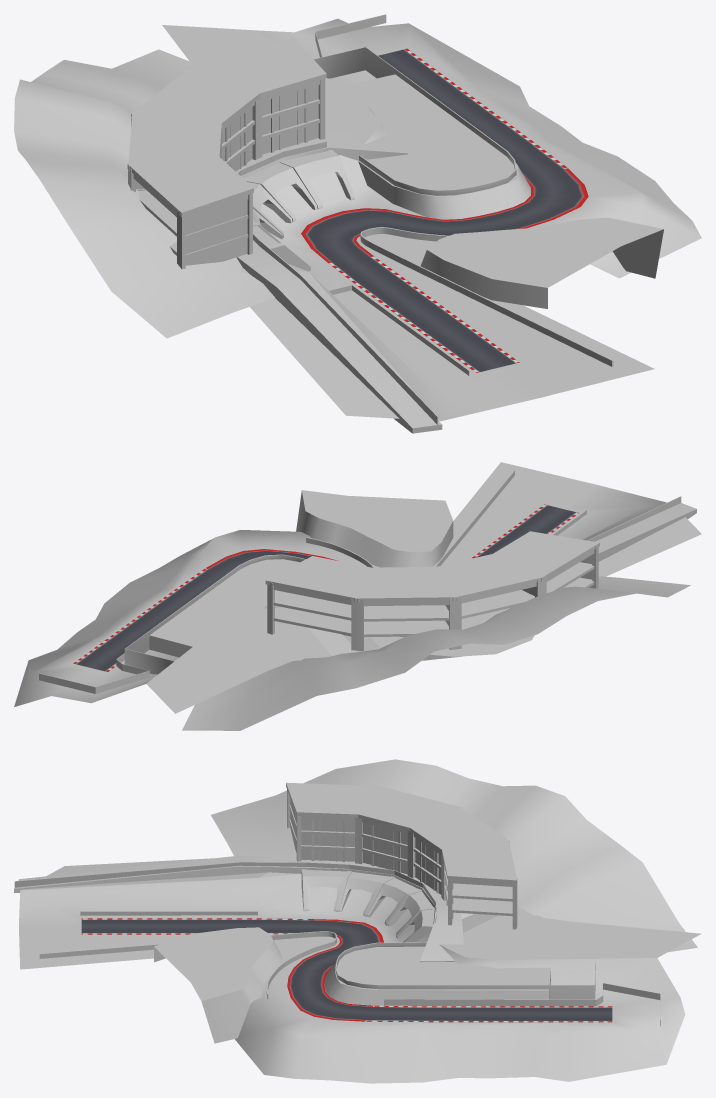
Rendered from Tutorial.fbx.
The picture shows the model from 3 angles, top to bottom: view 1: azimuth 30°, elevation 25°; view 2: azimuth 150°, elevation 25°; view 3: azimuth 270°, elevation 25°; orthographic projection. The views are drawn at different scales.
Parts seen in each view (by area): view 1: polySurface2, polySurface59, polySurface68, polySurface1, polySurface3, polySurface5, polySurface61, polySurface55, polySurface35, polySurface4, polySurface62, polySurface60 (+1 smaller); view 2: polySurface2, polySurface68, polySurface59, polySurface5, polySurface1, polySurface3, polySurface61, polySurface35, polySurface63, polySurface4, polySurface62; view 3: polySurface2, polySurface59, polySurface68, polySurface1, polySurface3, polySurface5, polySurface61, polySurface55, polySurface62, polySurface35, polySurface63, polySurface4 (+1 smaller).
Boxes of the visible parts, left/top/right/bottom form: polySurface2: left=162, top=18, right=701, bottom=421; polySurface59: left=14, top=49, right=274, bottom=338; polySurface68: left=127, top=37, right=326, bottom=269; polySurface1: left=301, top=48, right=588, bottom=372; polySurface3: left=340, top=74, right=530, bottom=219; polySurface5: left=420, top=217, right=663, bottom=308; polySurface61: left=236, top=132, right=442, bottom=433; polySurface55: left=243, top=150, right=354, bottom=271; polySurface35: left=314, top=47, right=516, bottom=195; polySurface4: left=360, top=227, right=613, bottom=366; polySurface62: left=237, top=141, right=438, bottom=424; polySurface60: left=329, top=285, right=469, bottom=375; polySurface2: left=14, top=462, right=701, bottom=713; polySurface68: left=265, top=531, right=599, bottom=651; polySurface59: left=182, top=576, right=690, bottom=730; polySurface5: left=296, top=490, right=453, bottom=567; polySurface1: left=73, top=504, right=578, bottom=671; polySurface3: left=149, top=559, right=299, bottom=657; polySurface61: left=263, top=503, right=696, bottom=660; polySurface35: left=124, top=554, right=305, bottom=674; polySurface63: left=39, top=653, right=149, bottom=693; polySurface4: left=306, top=470, right=514, bottom=567; polySurface62: left=587, top=496, right=681, bottom=541; polySurface2: left=19, top=858, right=701, bottom=1083; polySurface59: left=211, top=759, right=697, bottom=952; polySurface68: left=286, top=782, right=517, bottom=929; polySurface1: left=81, top=918, right=612, bottom=1022; polySurface3: left=324, top=946, right=550, bottom=1005; polySurface5: left=154, top=927, right=282, bottom=1043; polySurface61: left=14, top=856, right=463, bottom=962; polySurface55: left=301, top=869, right=434, bottom=942; polySurface62: left=14, top=862, right=436, bottom=922; polySurface35: left=335, top=942, right=595, bottom=999; polySurface63: left=384, top=983, right=660, bottom=1026; polySurface4: left=39, top=931, right=336, bottom=998.
Bounding box in the file's own units: 97.4 × 21.15 × 126.
